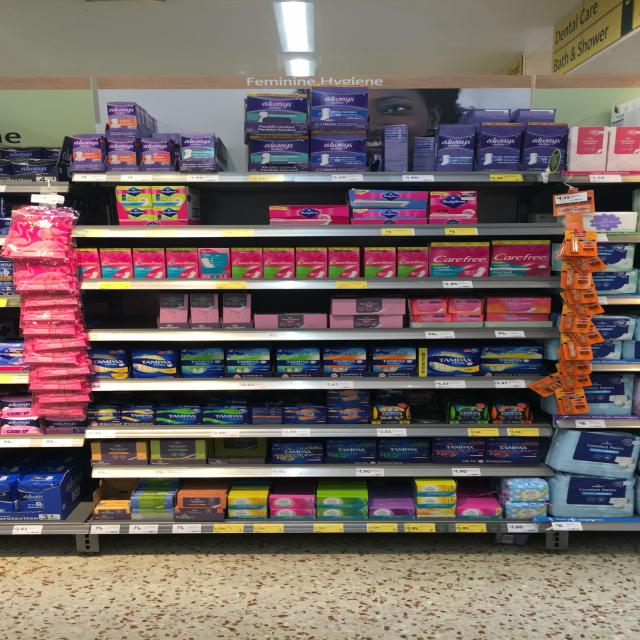unorganised: (552, 428, 639, 480), (370, 126, 433, 172), (207, 440, 267, 459)
